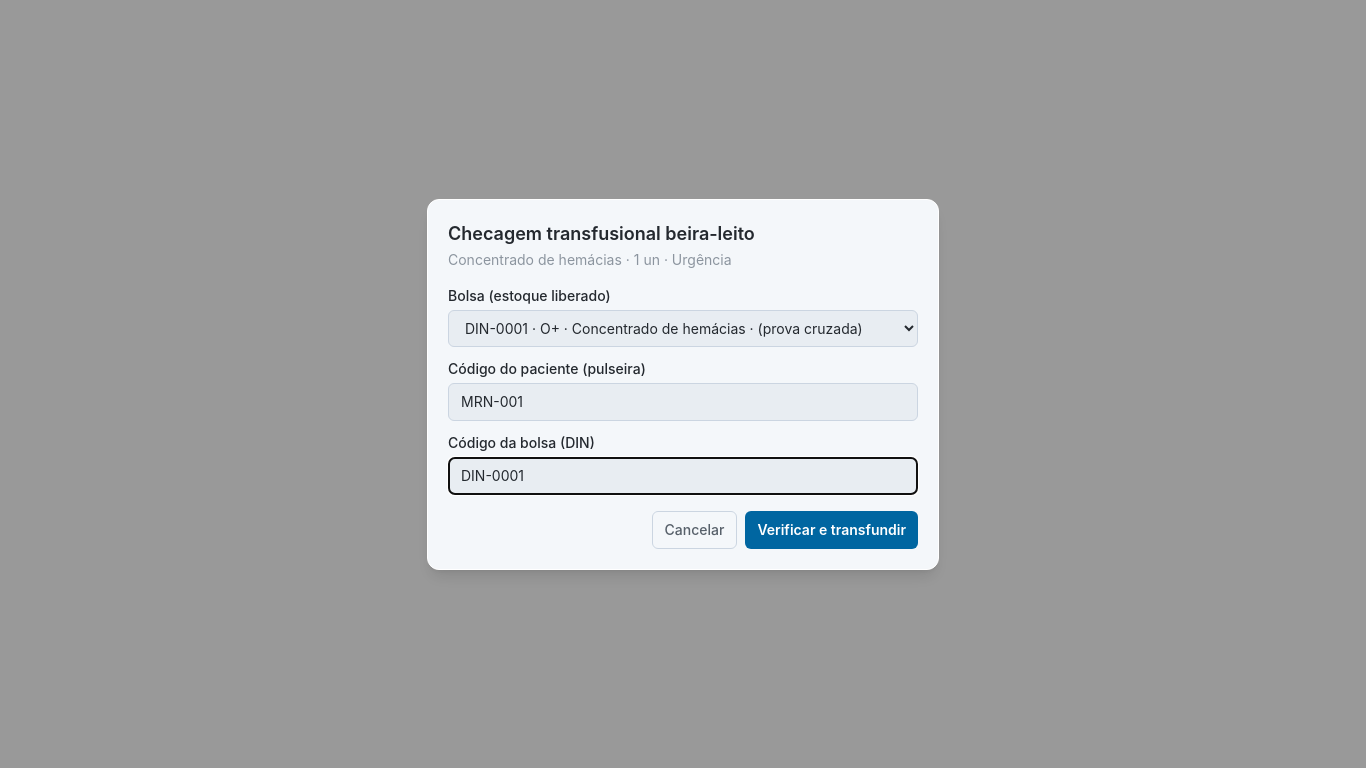
BedsideCheck › on 409 surfaces a "não liberada" error without recording
Click the button "Verificar e transfundir" at (832, 530), box [745,510,918,548]
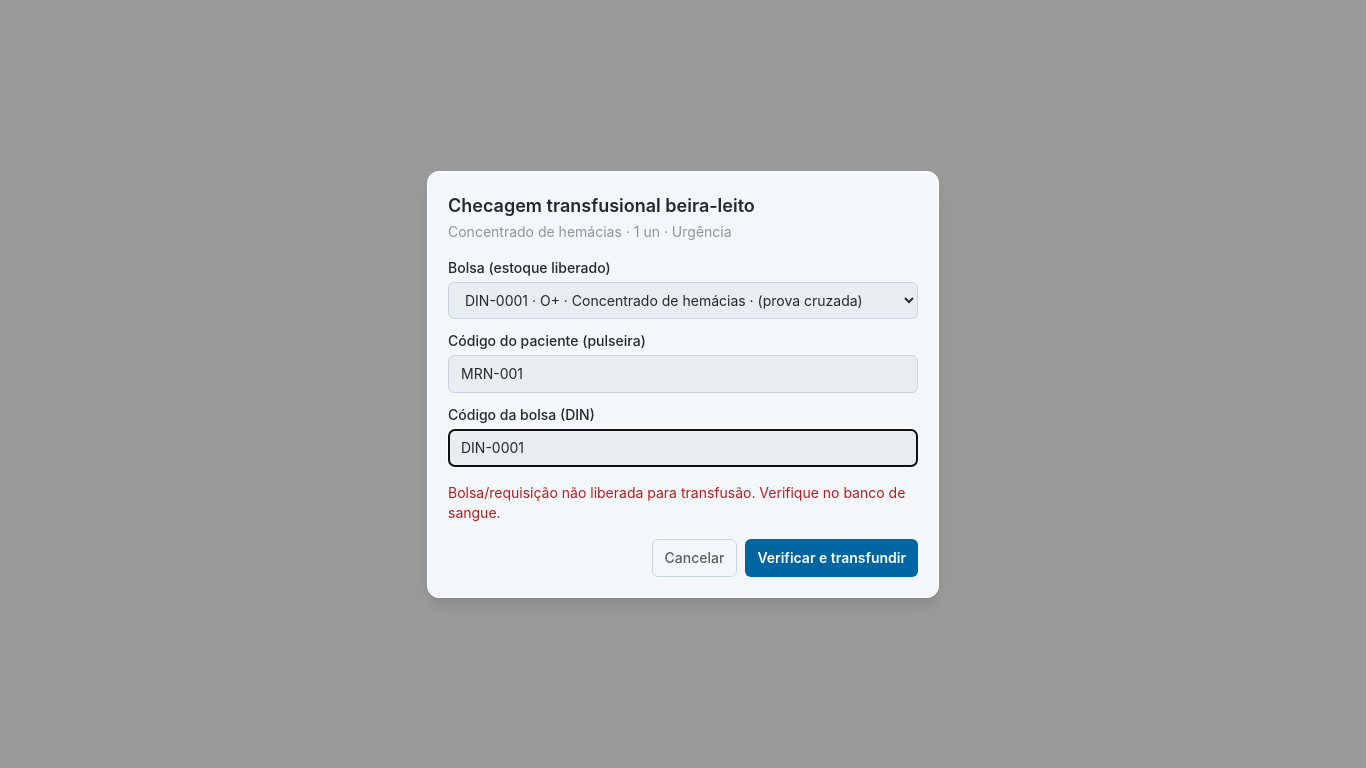
Result: the text "não liberada" is shown at [448,484,905,520]
